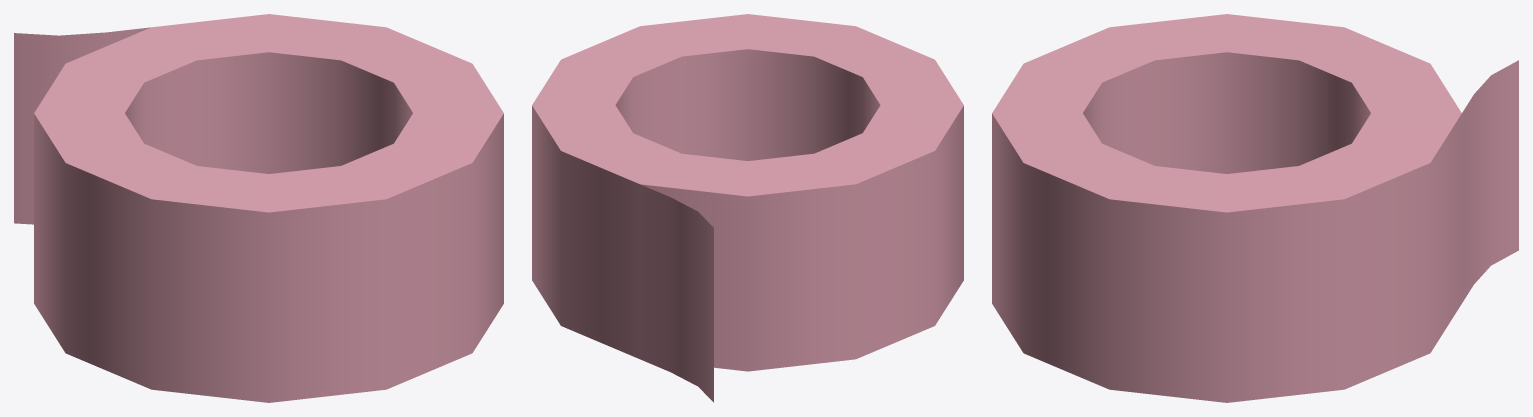
The model's file is DuckTape.fbx.
The picture shows the model from 3 angles, left to right: view 1: azimuth 30°, elevation 25°; view 2: azimuth 150°, elevation 25°; view 3: azimuth 270°, elevation 25°; orthographic projection. The views are drawn at different scales.
Visible parts, largest first — view 1: DuckTape; view 2: DuckTape; view 3: DuckTape.
Boxes of the visible parts, x1,y1,x2,y2 form: DuckTape: (14,14,503,402); DuckTape: (532,14,963,402); DuckTape: (992,14,1518,402).
Bounding box in the file's own units: 24.89 × 11.14 × 27.91.
